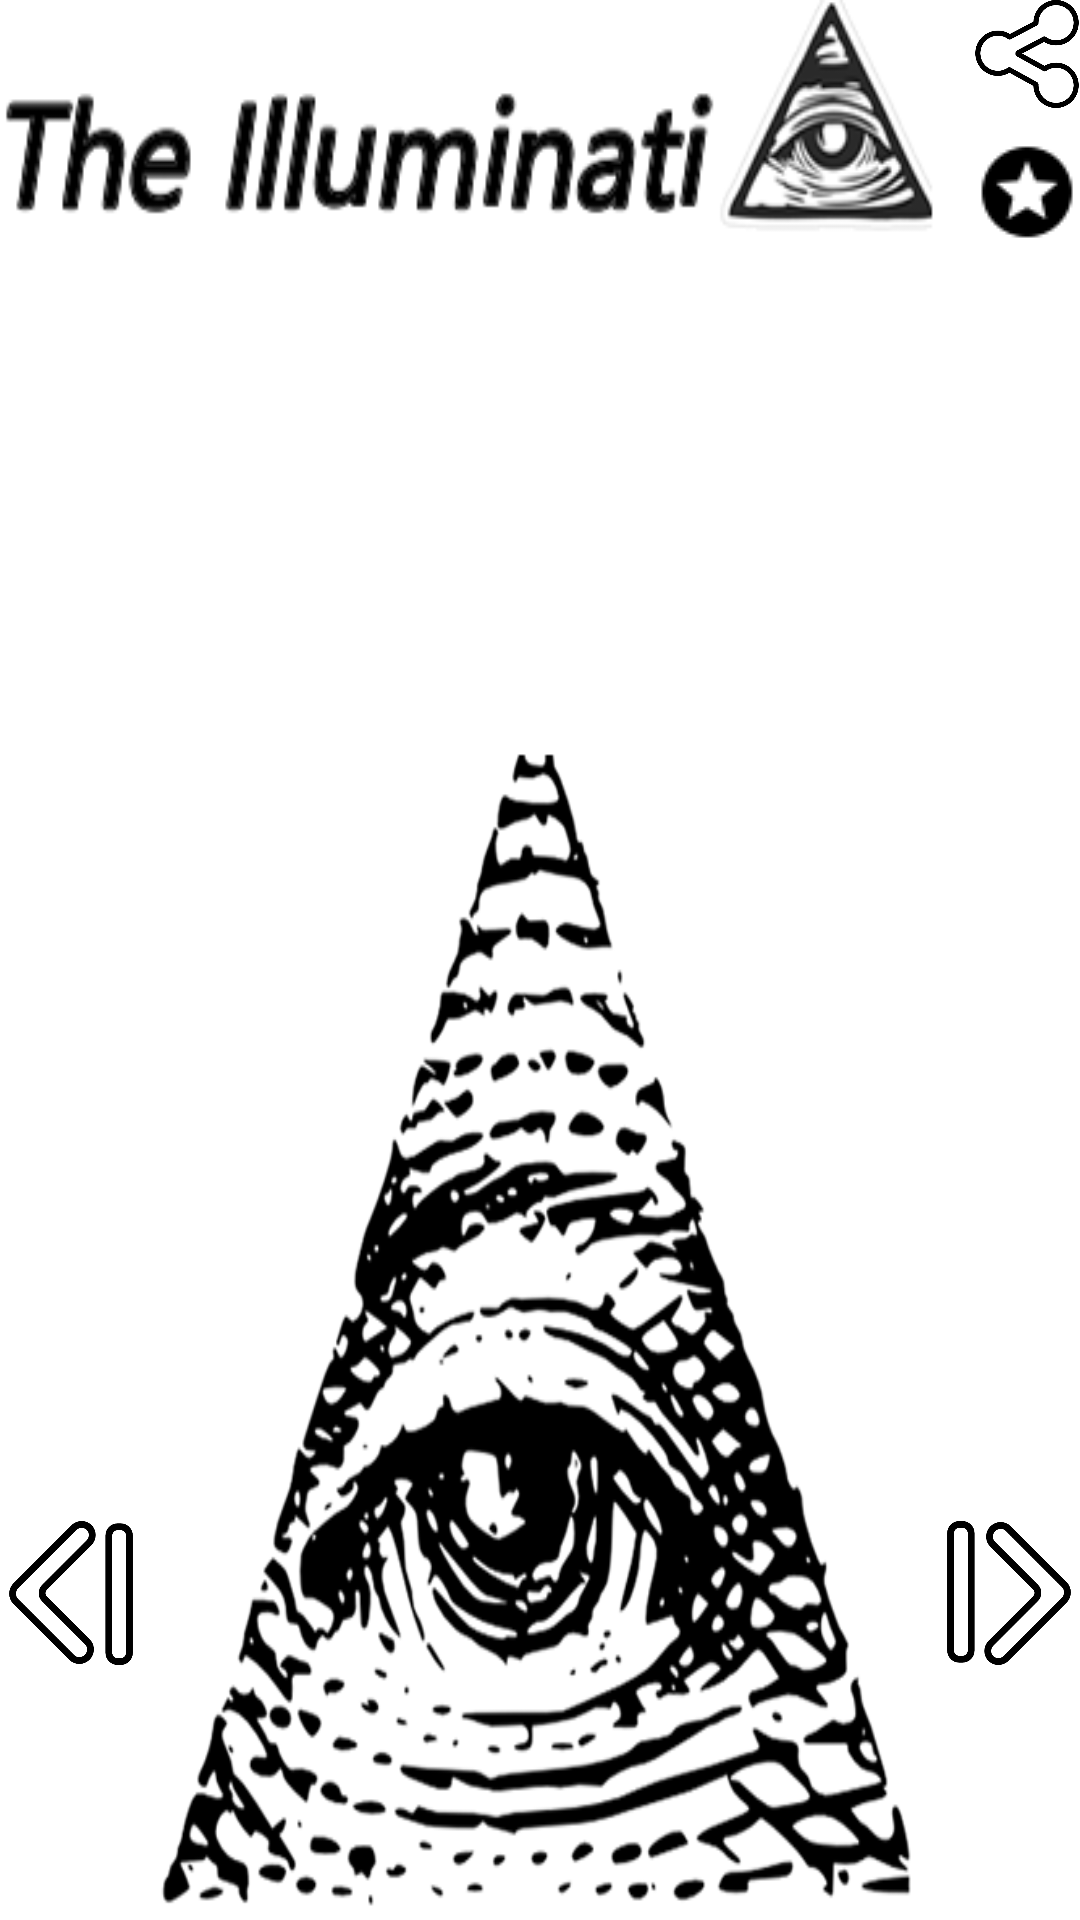

Icon bounding boxes for this 1080 × 1920 phone screenshot, format [x1, y1, x2, y2]:
back: [9, 1521, 133, 1665]
compartilhar: [975, 0, 1079, 108]
netx: [947, 1521, 1071, 1665]
starcircle: [981, 146, 1073, 238]
